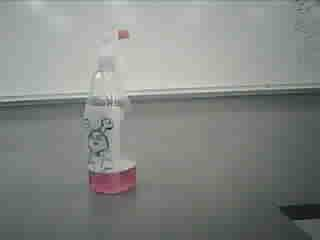hazard: (74, 27, 142, 197)
